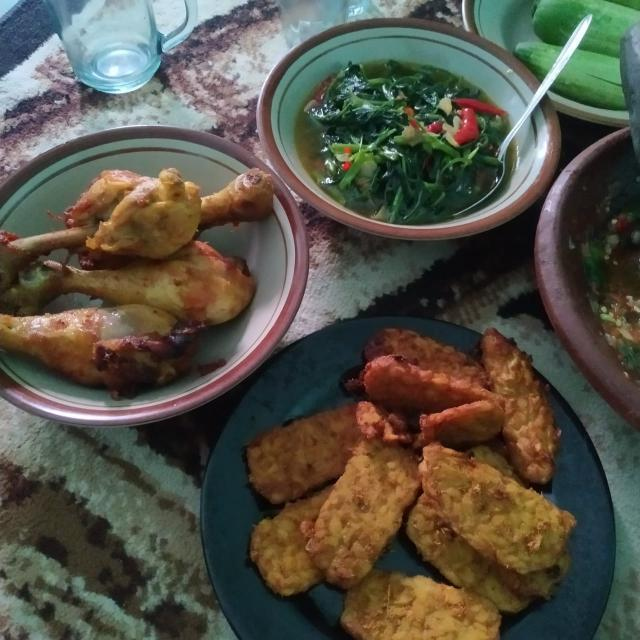ayam_goreng: (24, 279, 189, 398), (80, 147, 209, 250), (105, 228, 229, 320)
